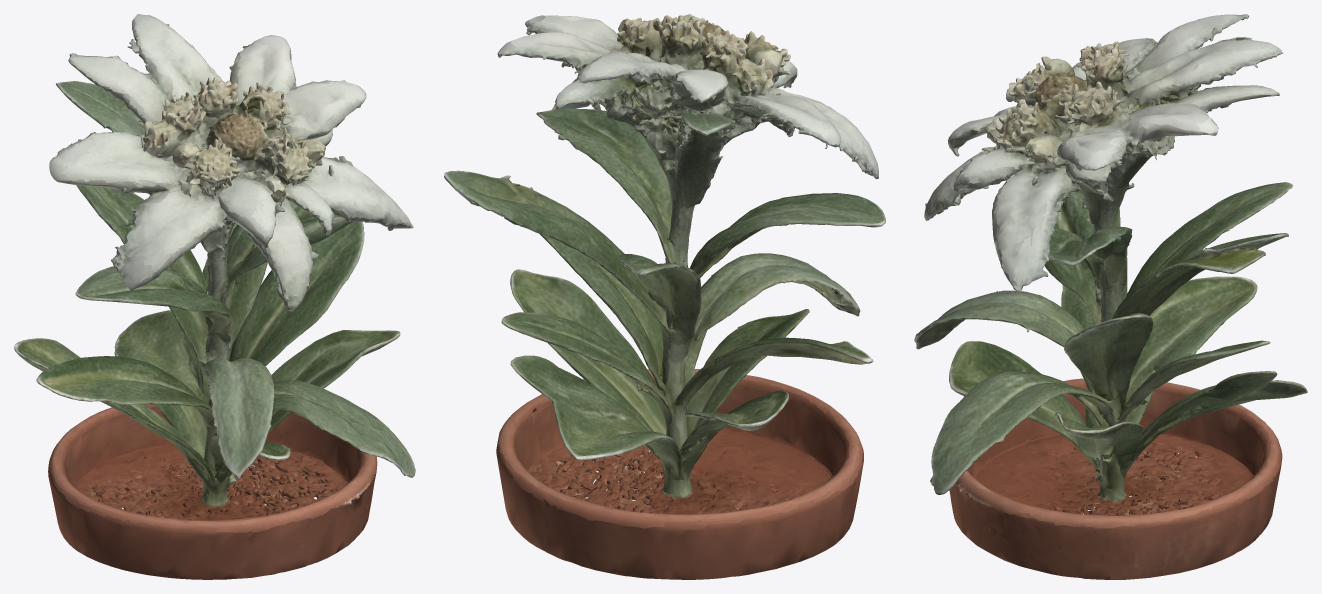
Rendered from edelweiss-cluster-v21.glb.
3 views of the same model, side by side, from view 1: azimuth 30°, elevation 25°; view 2: azimuth 150°, elevation 25°; view 3: azimuth 270°, elevation 25° (orthographic). The views are drawn at different scales.
Parts seen in each view (by area): view 1: geometry_0; view 2: geometry_0; view 3: geometry_0.
Part boxes in pixels (left/top/right/bottom): geometry_0: left=14, top=14, right=415, bottom=579; geometry_0: left=444, top=14, right=885, bottom=579; geometry_0: left=914, top=14, right=1307, bottom=579.
Size of the model in its own units: 0.2574 by 0.3199 by 0.2446.
1 material, 1 textured.
